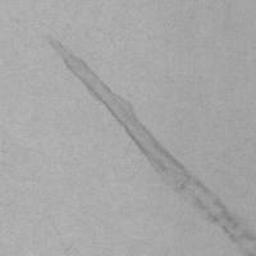Water spot: (49, 38, 256, 256)
